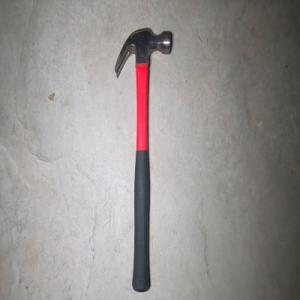Hammer: (113, 26, 171, 293)
